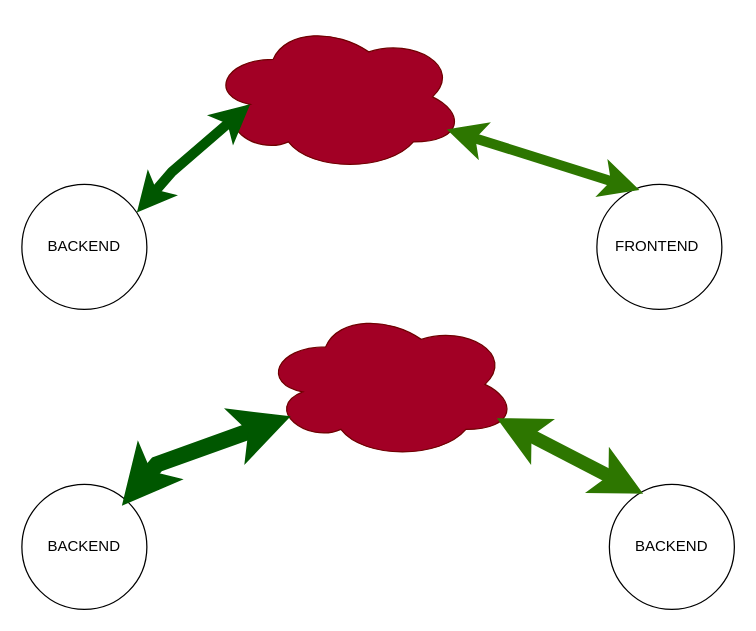
Some shapes in this 756 by 631 pixel diagram are drawn without their labels. Each missing label, with the centre of its shape:
student-api: the point at 336,96
student-registre: the point at 389,383
